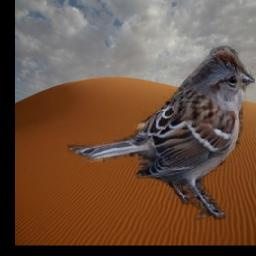Sparrow: (67, 47, 255, 222)
